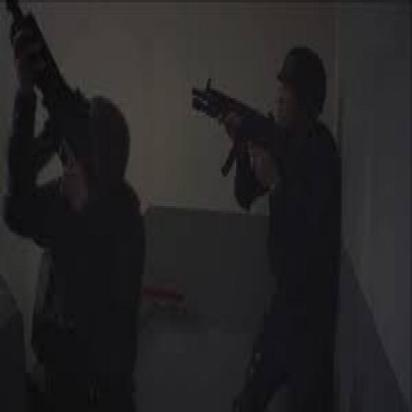Gun: (4, 0, 91, 190), (190, 77, 283, 178)
